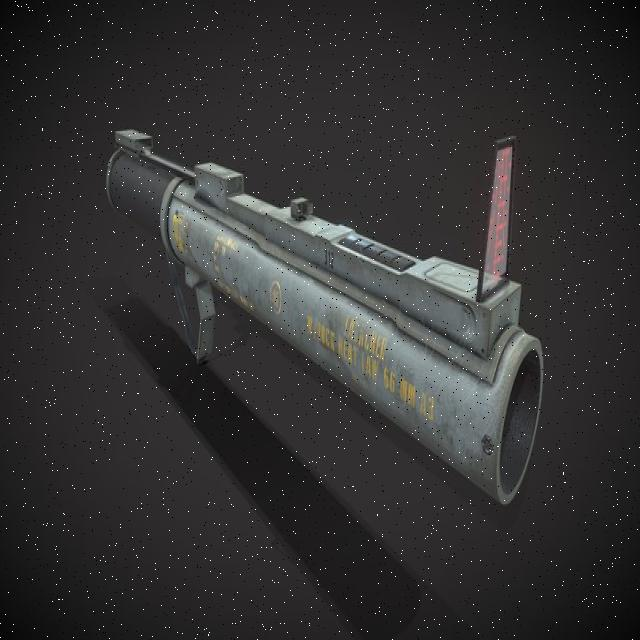bazooka: (100, 120, 548, 518)
